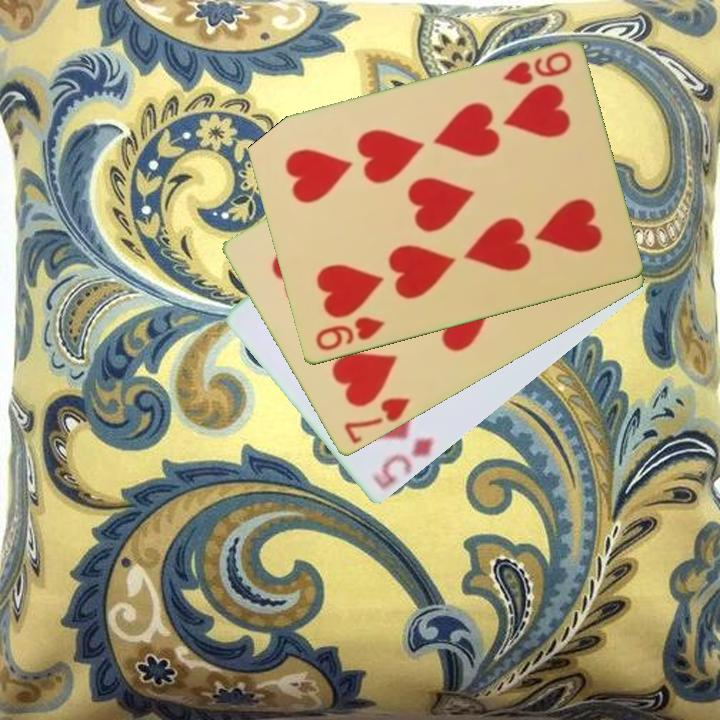5d: (373, 433, 437, 493)
7h: (340, 394, 413, 448)
9h: (311, 313, 387, 355), (499, 48, 575, 89)
